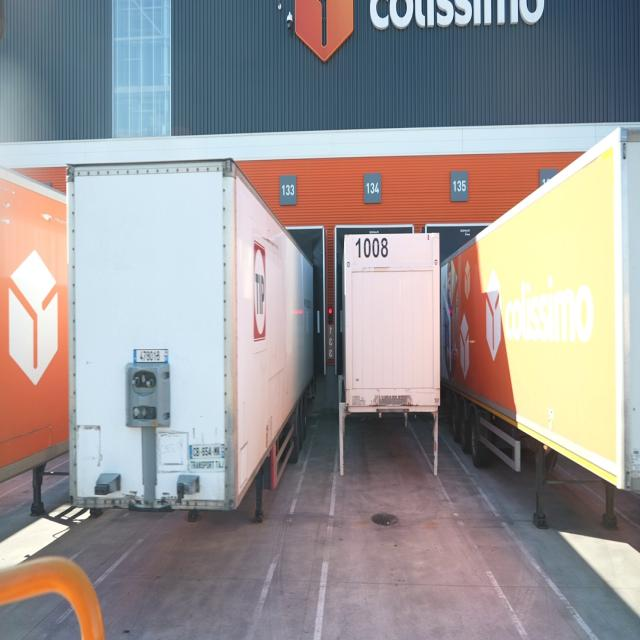Code: (354, 233, 389, 264)
